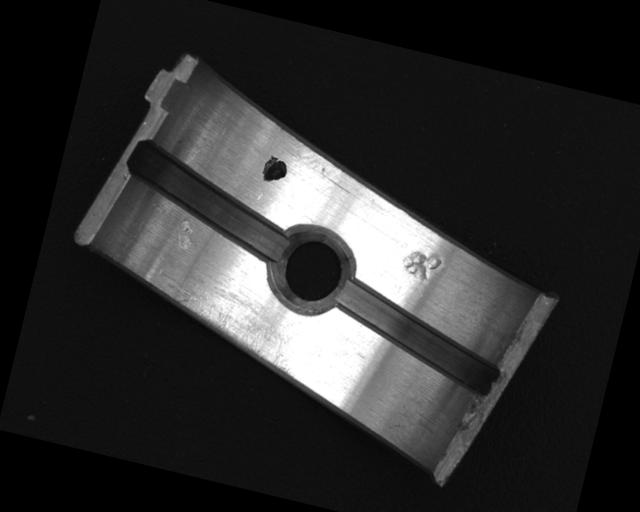blot: (259, 153, 290, 186)
bruise: (398, 245, 444, 285), (173, 217, 198, 253)
gap: (114, 136, 304, 262), (323, 276, 512, 398)
hole: (259, 218, 361, 321)
scratch: (155, 274, 312, 379)
